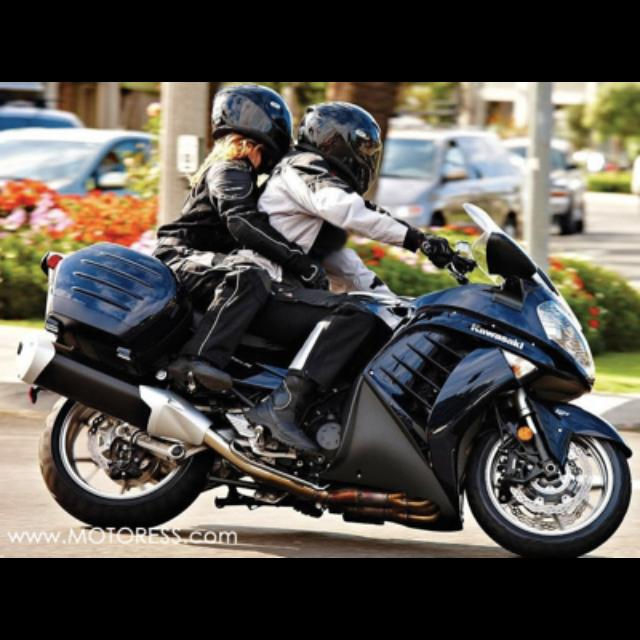With Helmet: (301, 93, 387, 199)
